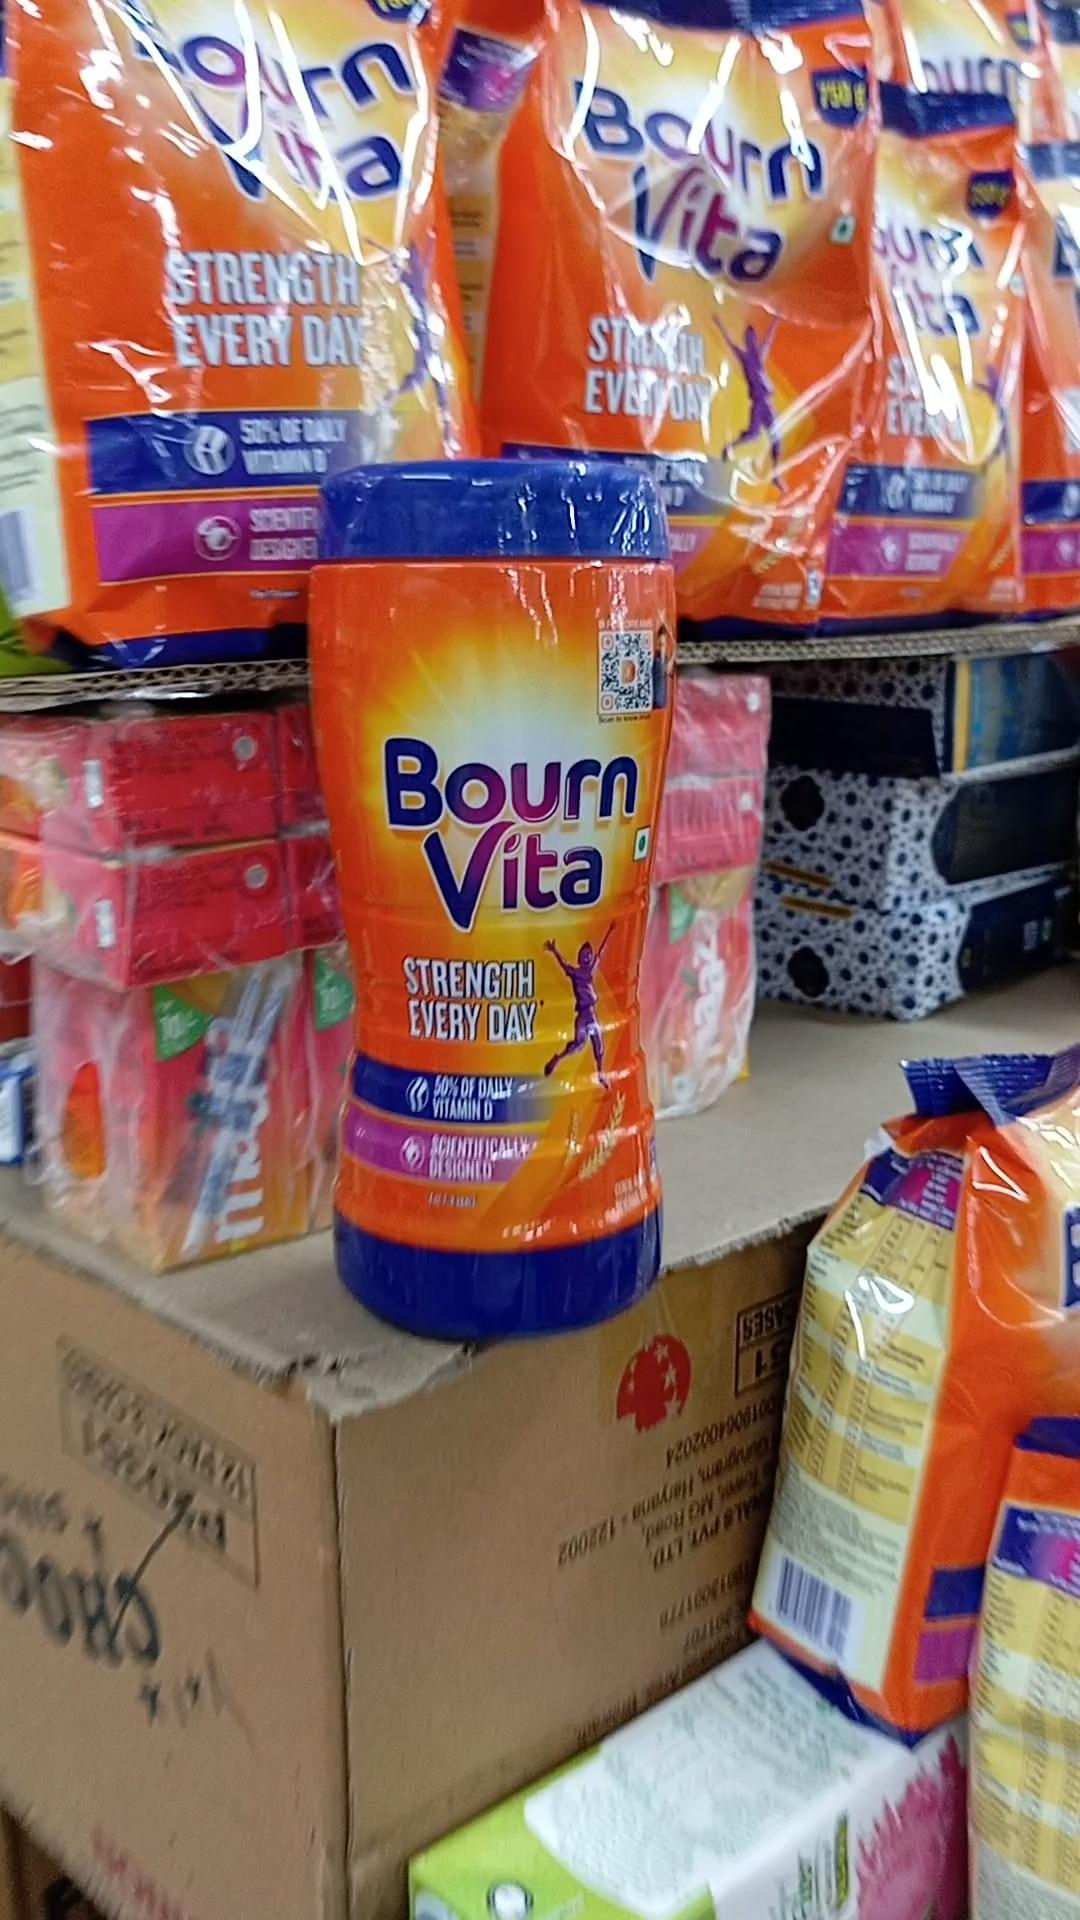COMPLAN_CHOCOLATE_200_GMS_JAR: (314, 436, 678, 1340)
